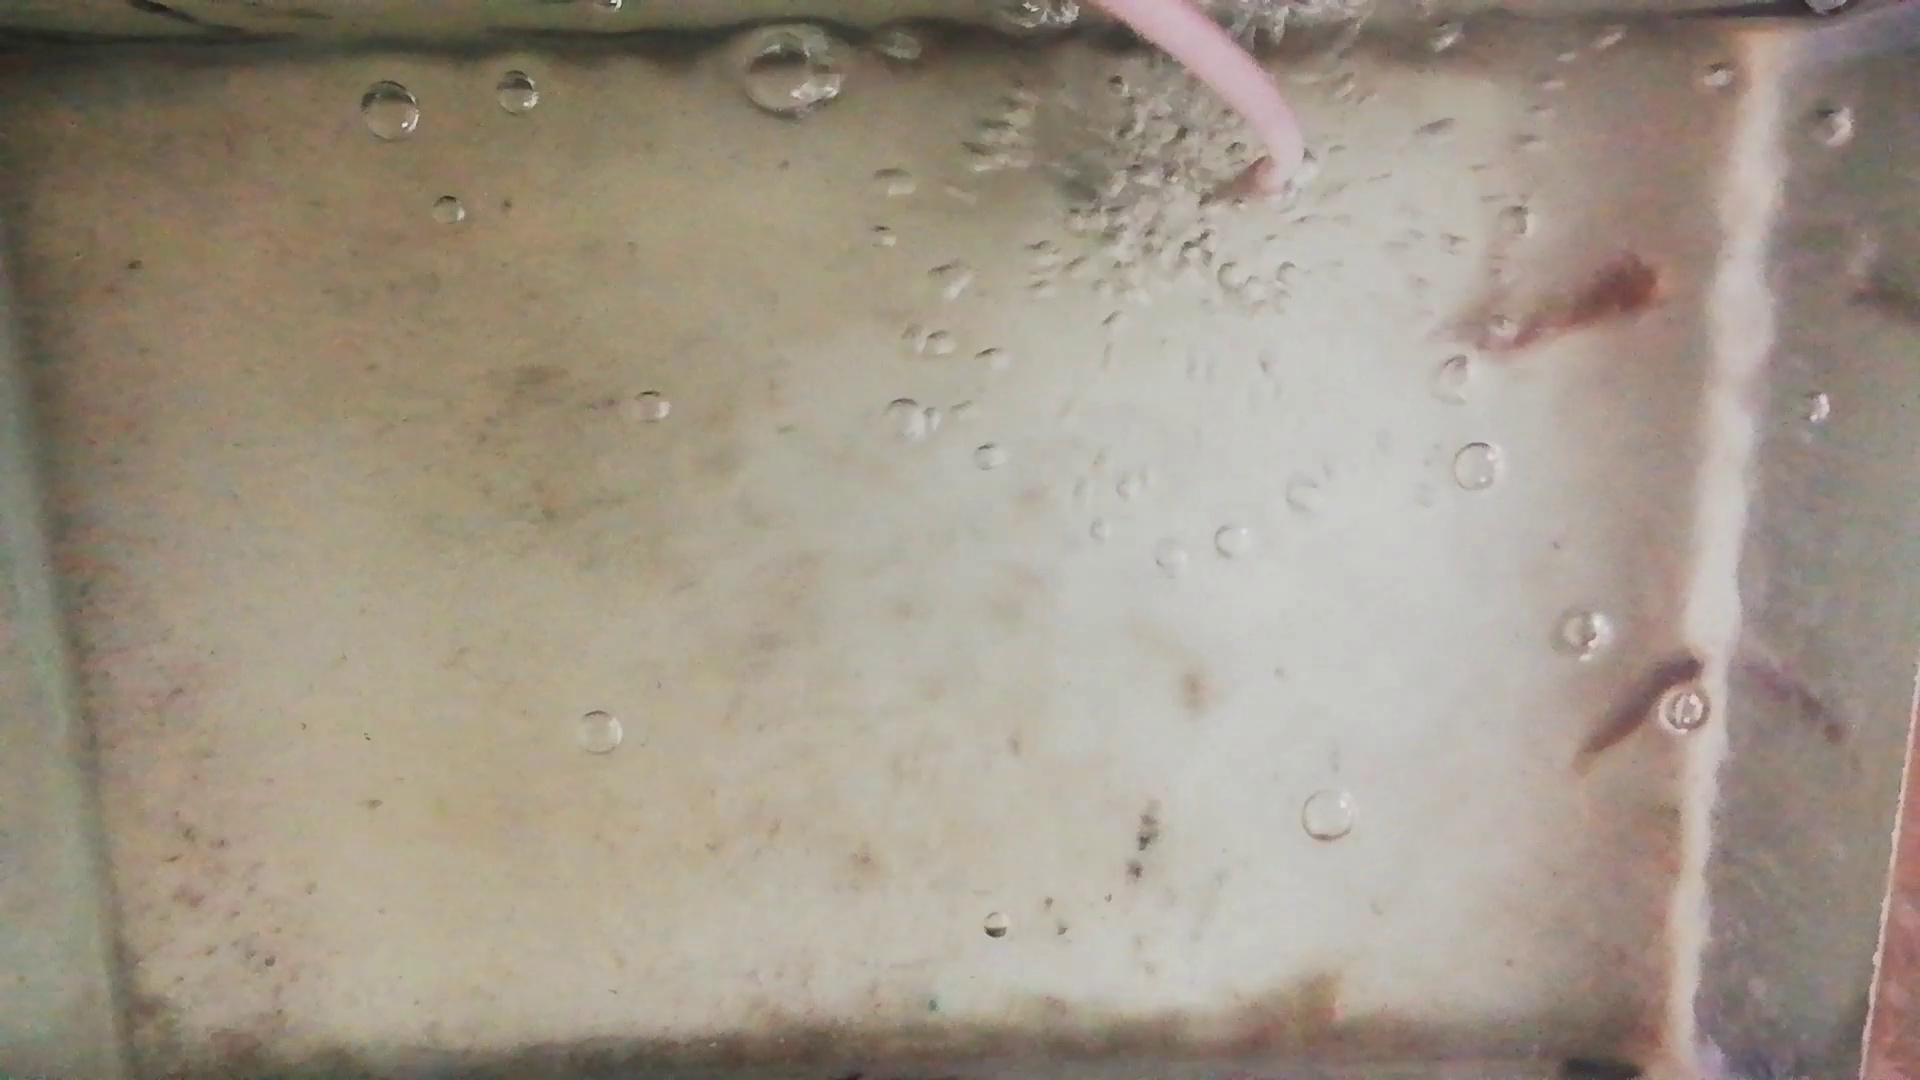fish: (1468, 256, 1667, 351), (1581, 650, 1705, 760)
